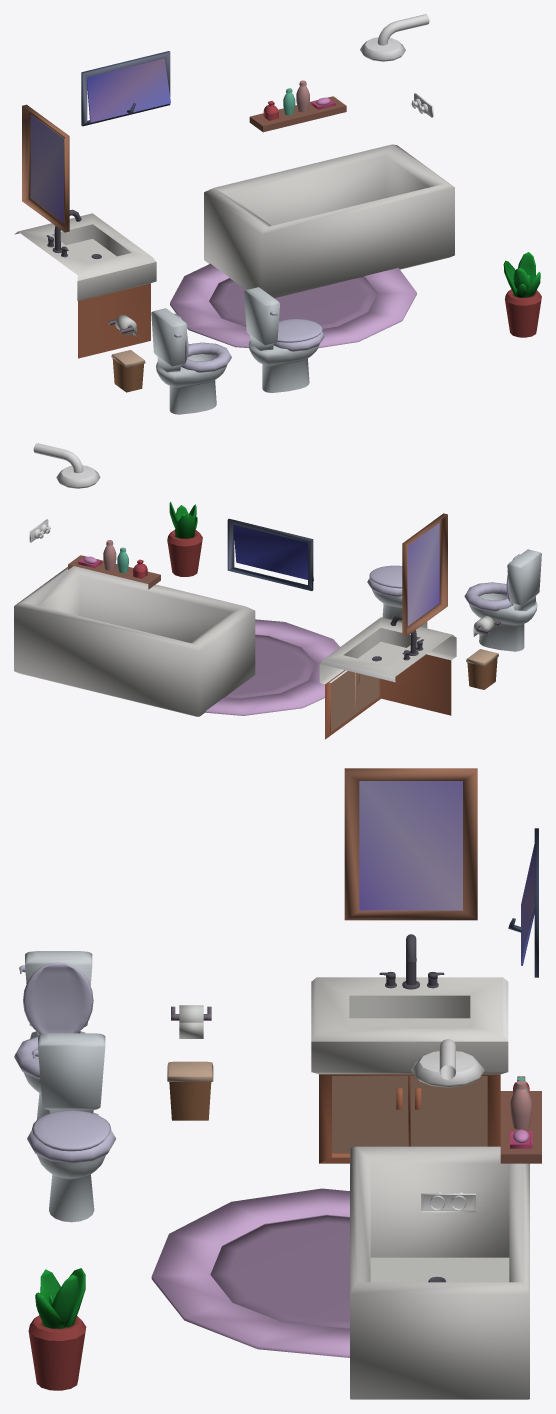
The model's file is Bathroom.fbx.
The picture shows the model from 3 angles, top to bottom: view 1: azimuth 30°, elevation 25°; view 2: azimuth 150°, elevation 25°; view 3: azimuth 270°, elevation 25°; orthographic projection. The views are drawn at different scales.
Parts seen in each view (by area): view 1: Bathtub, BathroomCarpet, ToiletSink, ToiletClose, ToiletOpen, Window, Mirror, Plant, Shelf, Shower, Trash; view 2: Bathtub, ToiletSink, BathroomCarpet, ToiletOpen, Mirror, Window, Plant, Shelf, Shower, ToiletClose, Trash; view 3: Bathtub, ToiletSink, BathroomCarpet, Mirror, ToiletClose, ToiletOpen, Plant, Shower, Shelf, Trash, Window, ToiletPaper.
Part boxes in pixels (x1,y1,x2,y2): Bathtub: (204, 144, 454, 298); BathroomCarpet: (170, 263, 416, 348); ToiletSink: (14, 209, 156, 358); ToiletClose: (244, 287, 324, 392); ToiletOpen: (151, 308, 231, 414); Window: (81, 51, 170, 126); Mirror: (22, 104, 69, 232); Plant: (503, 252, 541, 337); Shelf: (249, 80, 346, 132); Shower: (360, 14, 433, 117); Trash: (111, 350, 145, 392); Bathtub: (14, 566, 255, 716); ToiletSink: (319, 614, 456, 739); BathroomCarpet: (205, 619, 339, 715); ToiletOpen: (464, 549, 541, 651); Mirror: (402, 513, 447, 636); Window: (227, 518, 313, 590); Plant: (167, 501, 202, 576); Shelf: (68, 540, 160, 589); Shower: (29, 443, 100, 542); ToiletClose: (367, 565, 427, 628); Trash: (466, 649, 498, 689); Bathtub: (350, 1146, 529, 1399); ToiletSink: (311, 934, 508, 1163); BathroomCarpet: (151, 1188, 349, 1357); Mirror: (344, 768, 477, 920); ToiletClose: (27, 1033, 115, 1222); ToiletOpen: (14, 951, 93, 1119); Plant: (28, 1268, 86, 1390); Shower: (411, 1039, 484, 1212); Shelf: (500, 1076, 541, 1163); Trash: (167, 1061, 213, 1120); Window: (508, 828, 538, 977); ToiletPaper: (171, 1005, 211, 1038).
Bounding box in the file's own units: 876 × 465 × 653.
